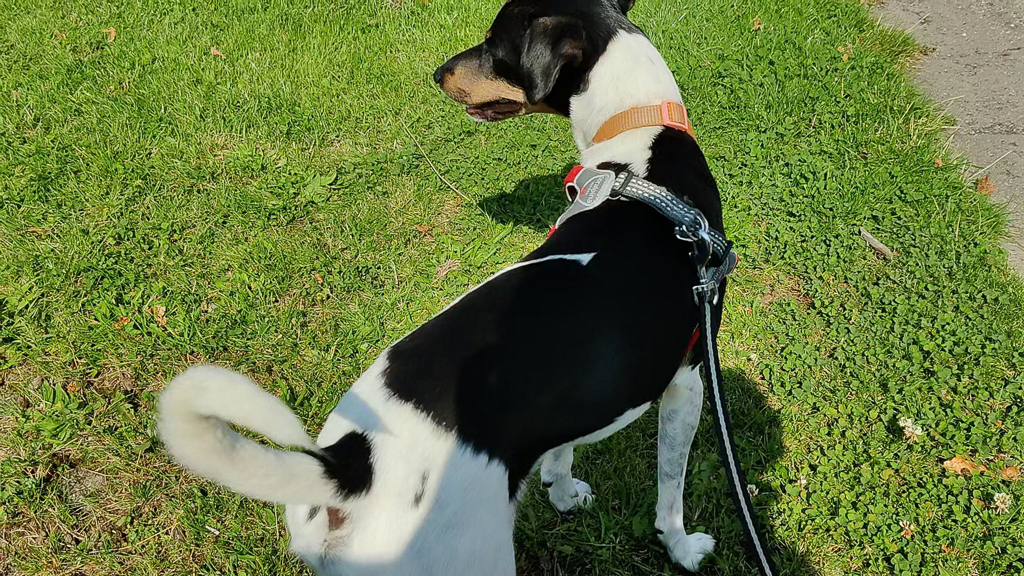Dog: (131, 0, 756, 576)
